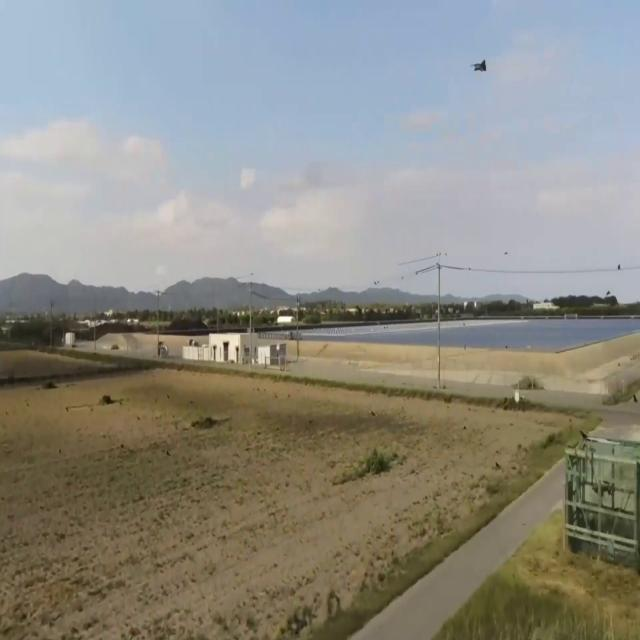bird: (472, 46, 488, 84)
